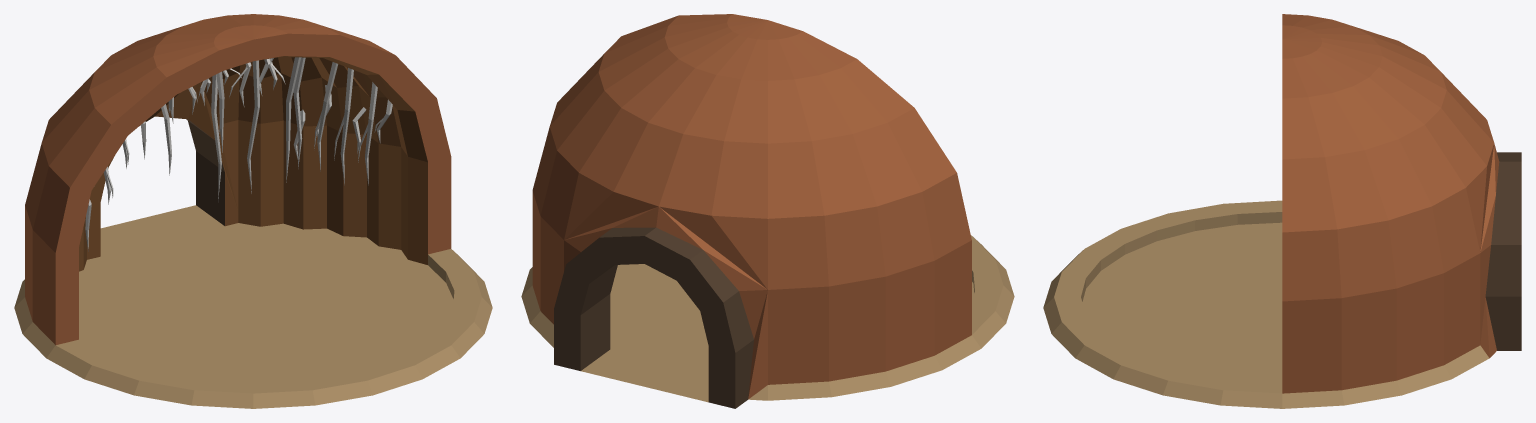
Rendered from ant-nest-chamber-6b786b.glb.
3 views of the same model, side by side, from view 1: azimuth 30°, elevation 25°; view 2: azimuth 150°, elevation 25°; view 3: azimuth 270°, elevation 25° (orthographic). The views are drawn at different scales.
Visible parts, largest first — view 1: chamber; view 2: chamber; view 3: chamber.
Boxes of the visible parts, x1,y1,x2,y2 form: chamber: (14, 14, 492, 408); chamber: (521, 14, 1014, 408); chamber: (1043, 14, 1521, 408).
Bounding box in the file's own units: 8 × 4.95 × 8.
